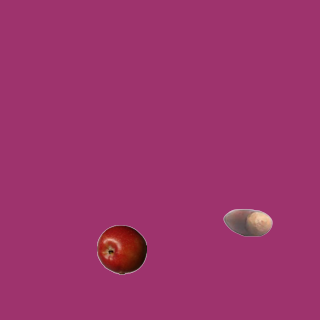Apple Braeburn: (96, 224, 146, 274)
Hazelnut: (222, 197, 272, 247)
